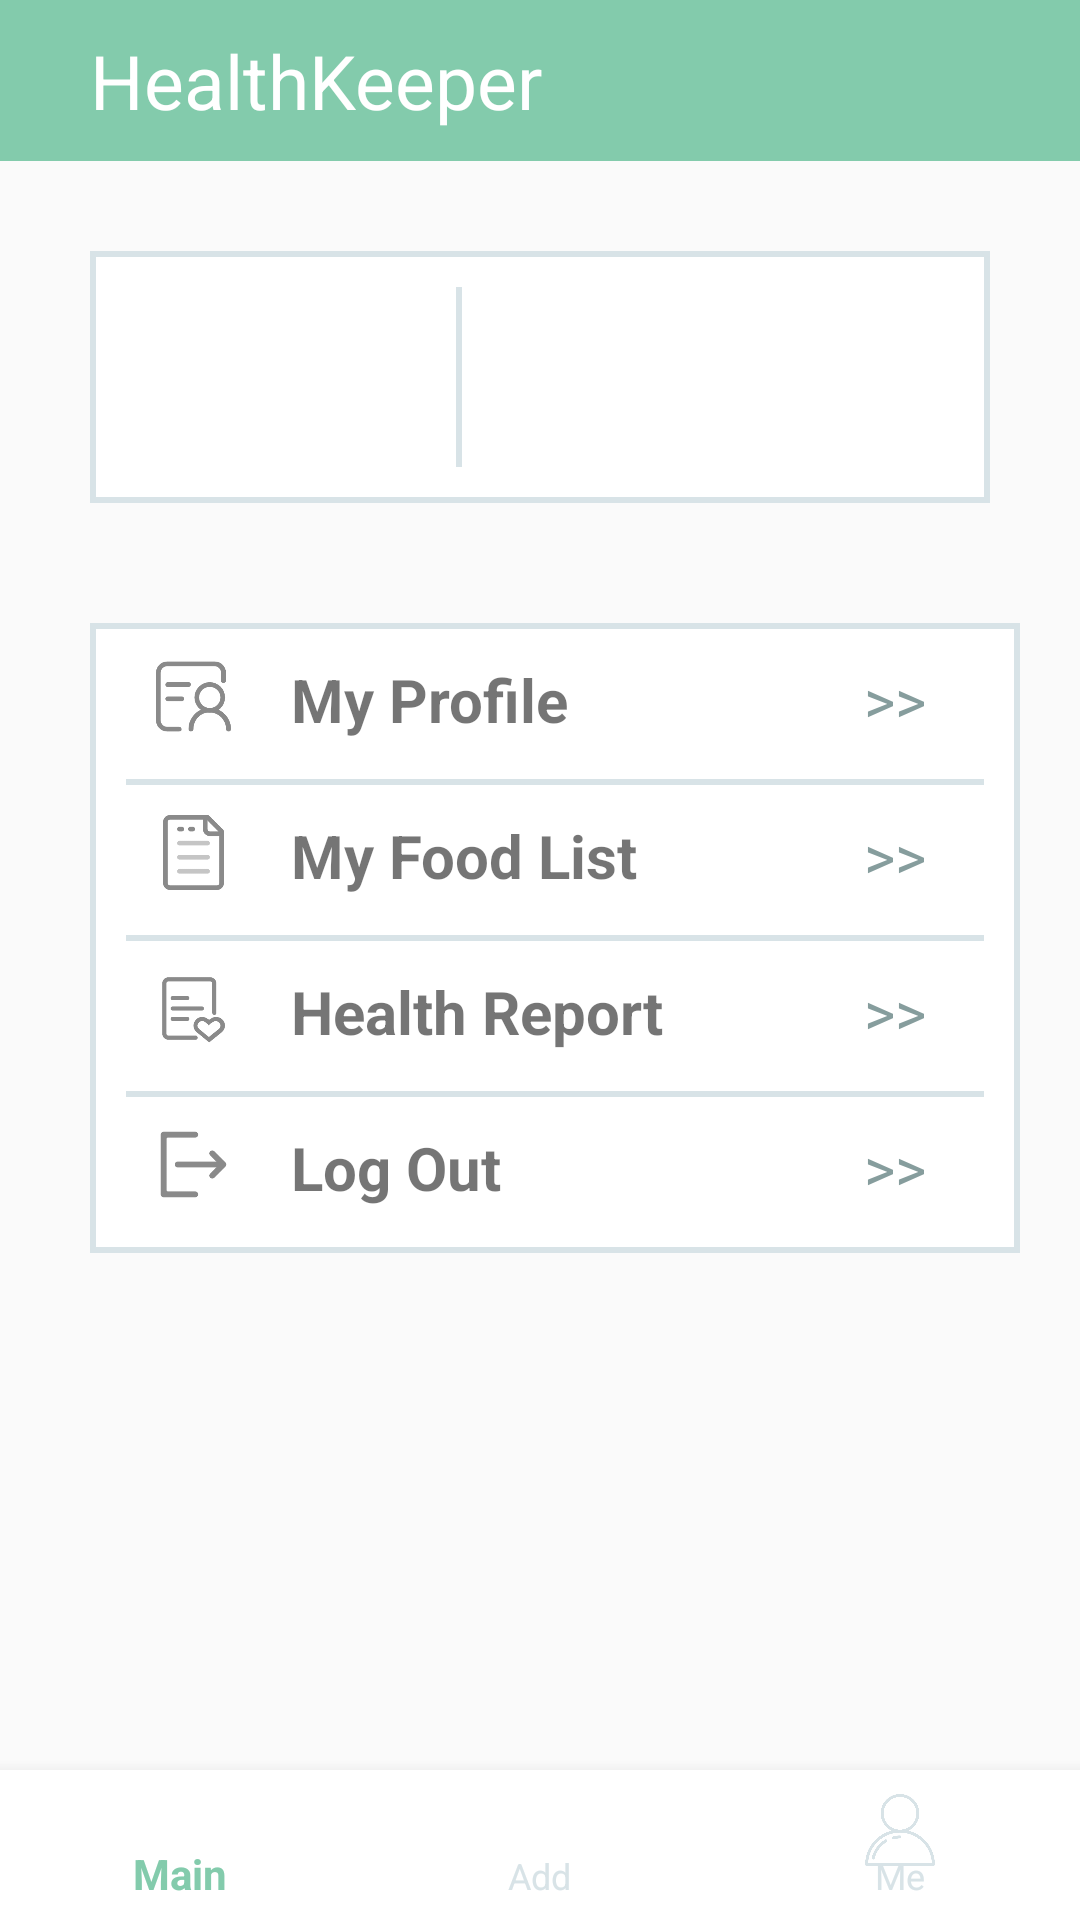

Locate icon controls on the screen. Image size 1080*1920, boxes as (x1, y1, x2, y2).
setting food list: (163, 815, 224, 890)
setting info: (156, 661, 231, 732)
setting report: (162, 977, 225, 1042)
